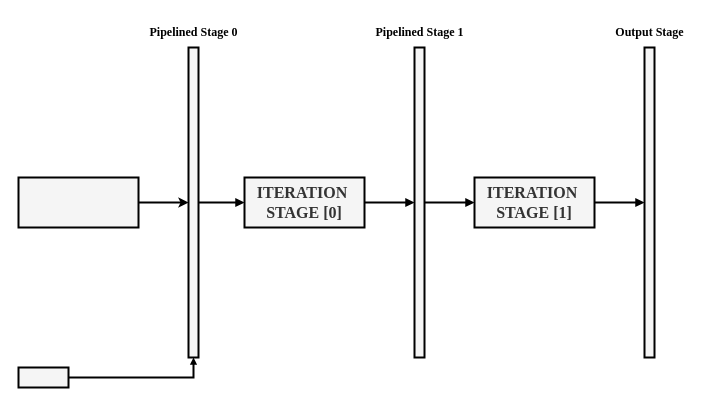
This 719x405 diagram has some shape labels left out. The centre of each missing label's shape, as x and y in pixels:
"INITIAL STAGE" belongs at point (78, 202).
"InValid" belongs at point (43, 377).
